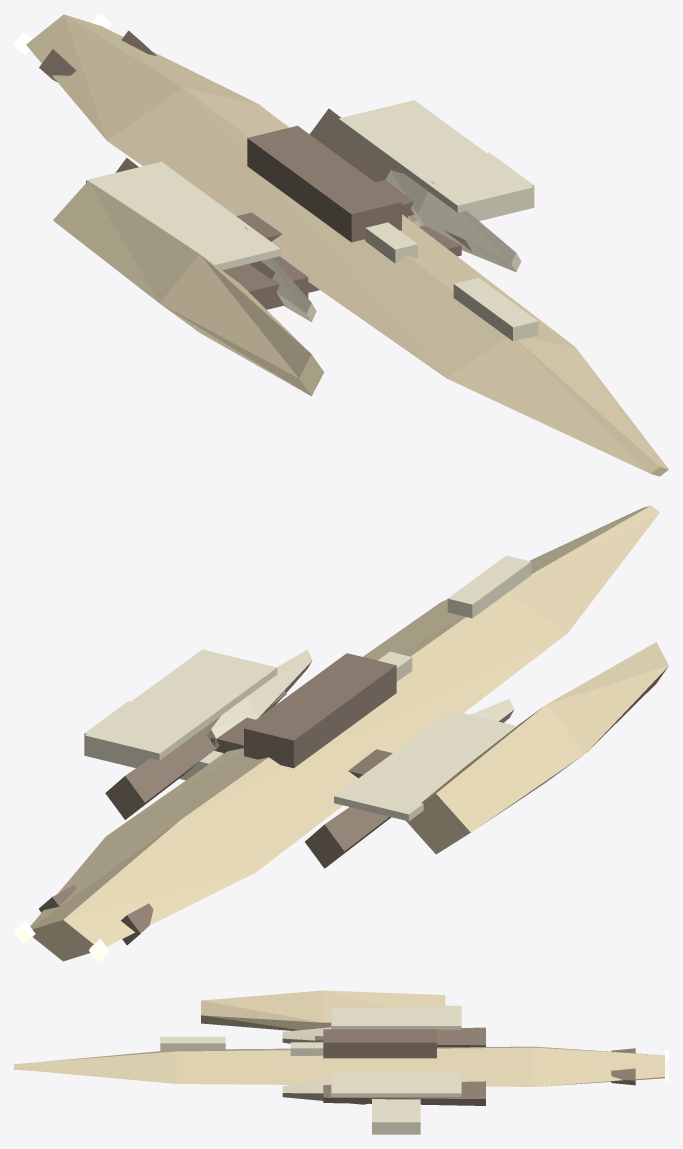
The picture shows the model from 3 angles, top to bottom: view 1: azimuth 30°, elevation 25°; view 2: azimuth 150°, elevation 25°; view 3: azimuth 270°, elevation 25°; orthographic projection. The views are drawn at different scales.
Bounding box in the file's own units: 6.18 × 1.29 × 15.3.
